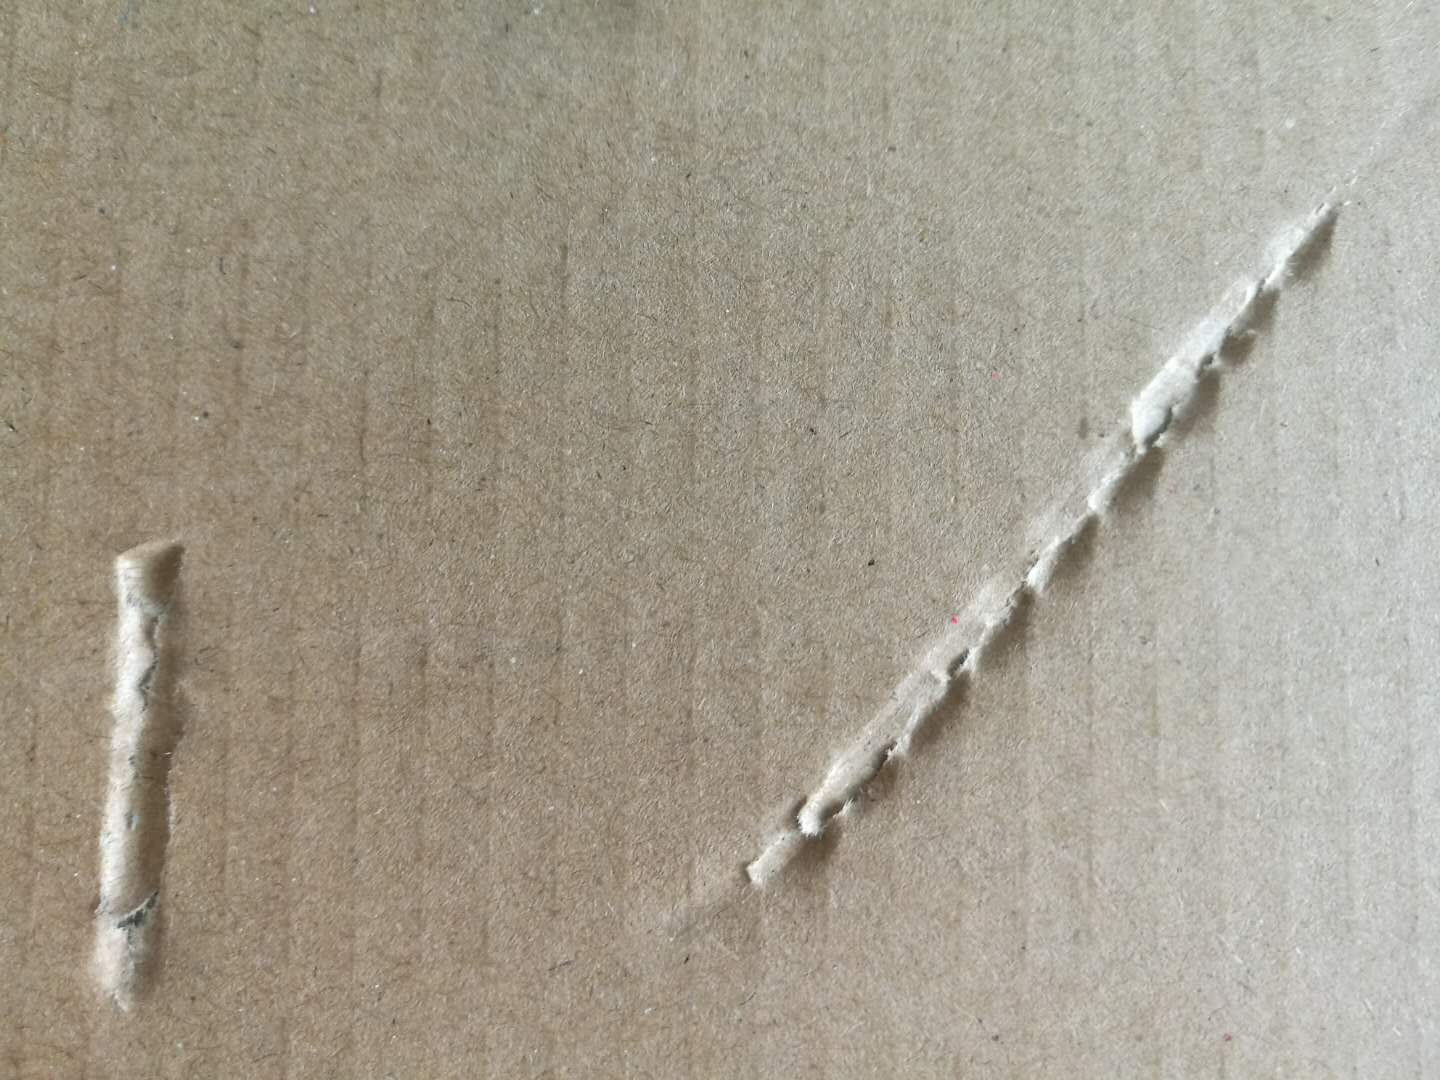defect: (694, 180, 1371, 921), (62, 511, 242, 1044)
